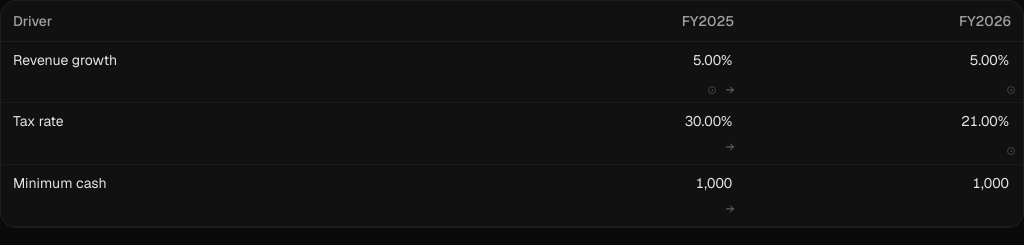
it: DriverGrid › gives the basis marker a tooltip saying it was derived from history
Focus the 1st element named "Seeded value" at coordinates (712, 90), box 708,86 -> 716,94
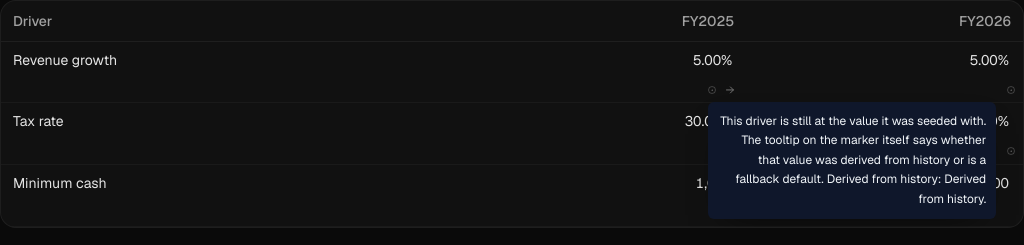
expect the tooltip "Derived from history" is shown: met, box 720,113 -> 986,207
